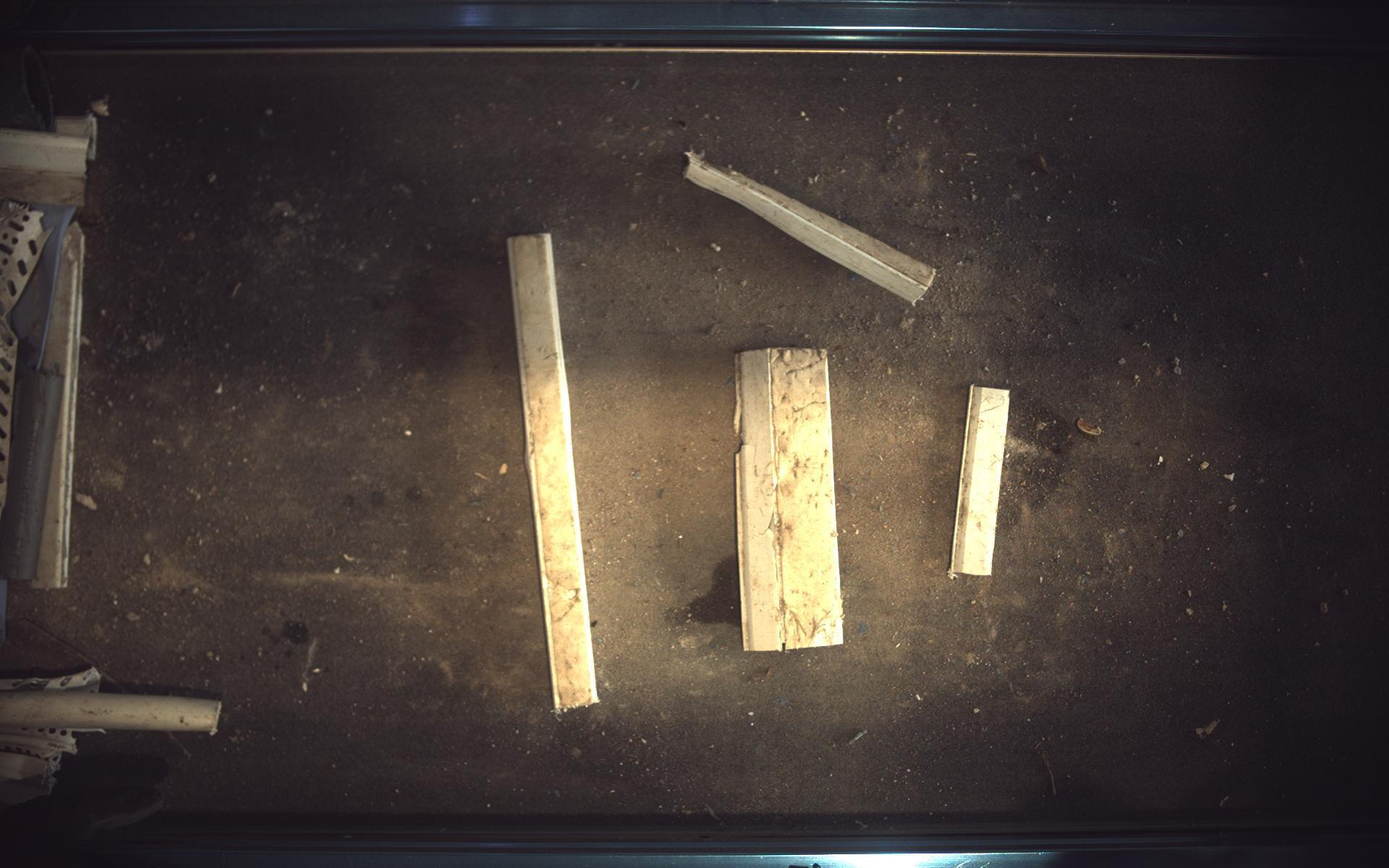plastic: (508, 233, 599, 712), (685, 150, 938, 304), (736, 349, 845, 652)
